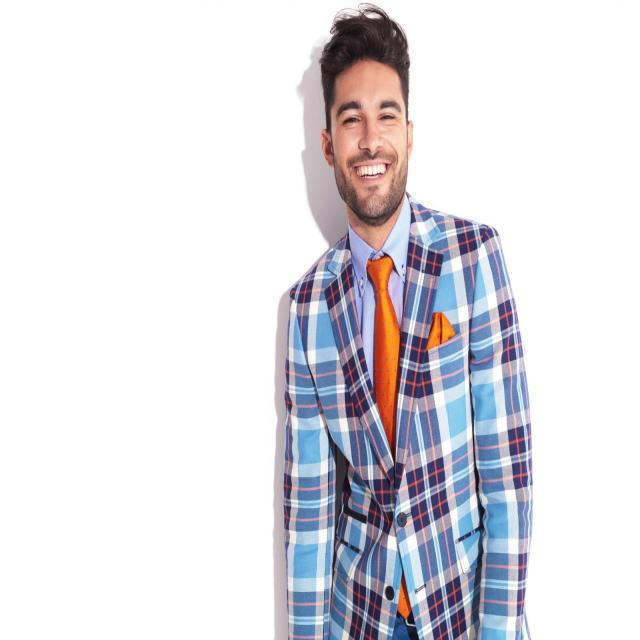human: (278, 12, 537, 640)
